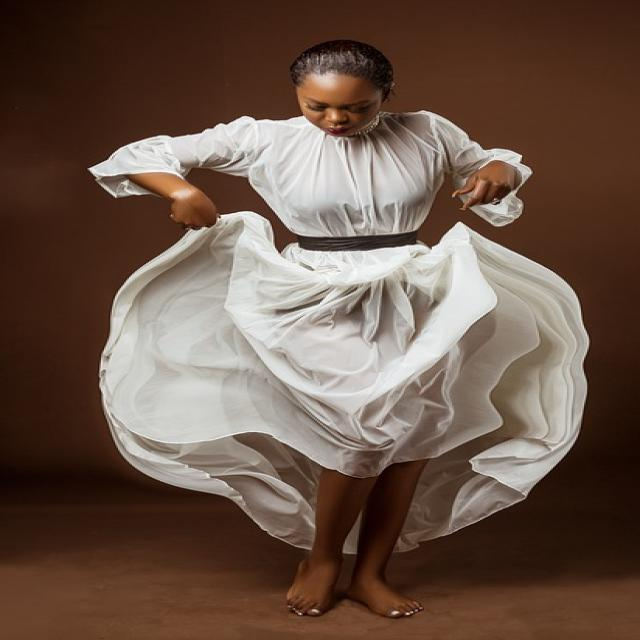Edited images: (83, 34, 621, 631)
